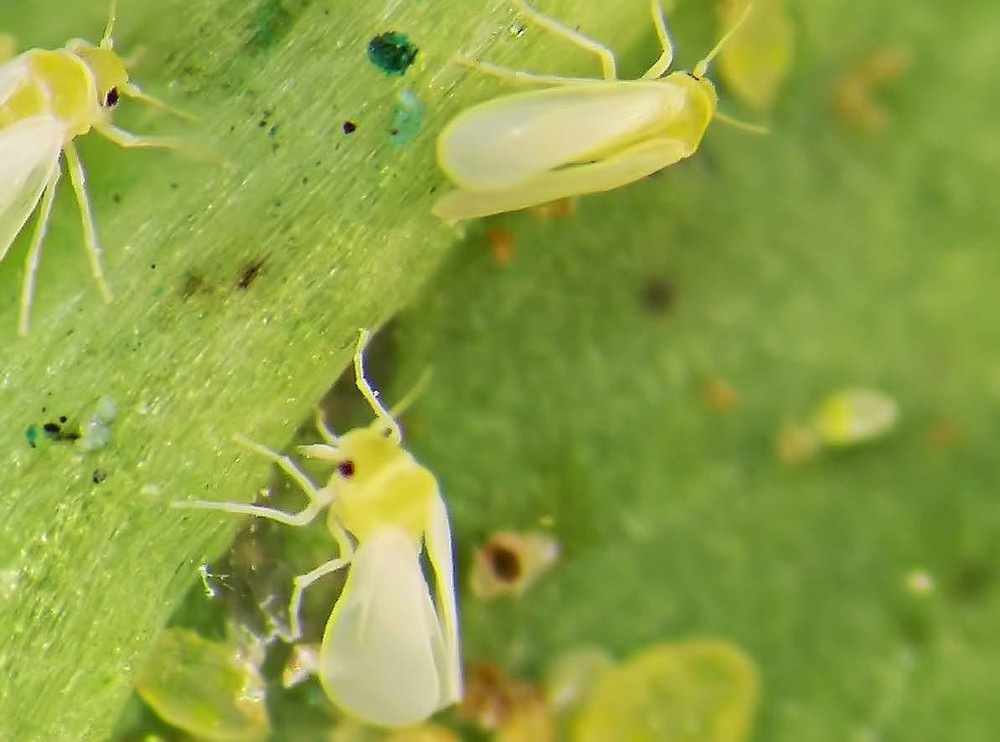Mosca Blanca: (198, 337, 492, 726), (428, 10, 754, 236), (3, 6, 173, 338)
